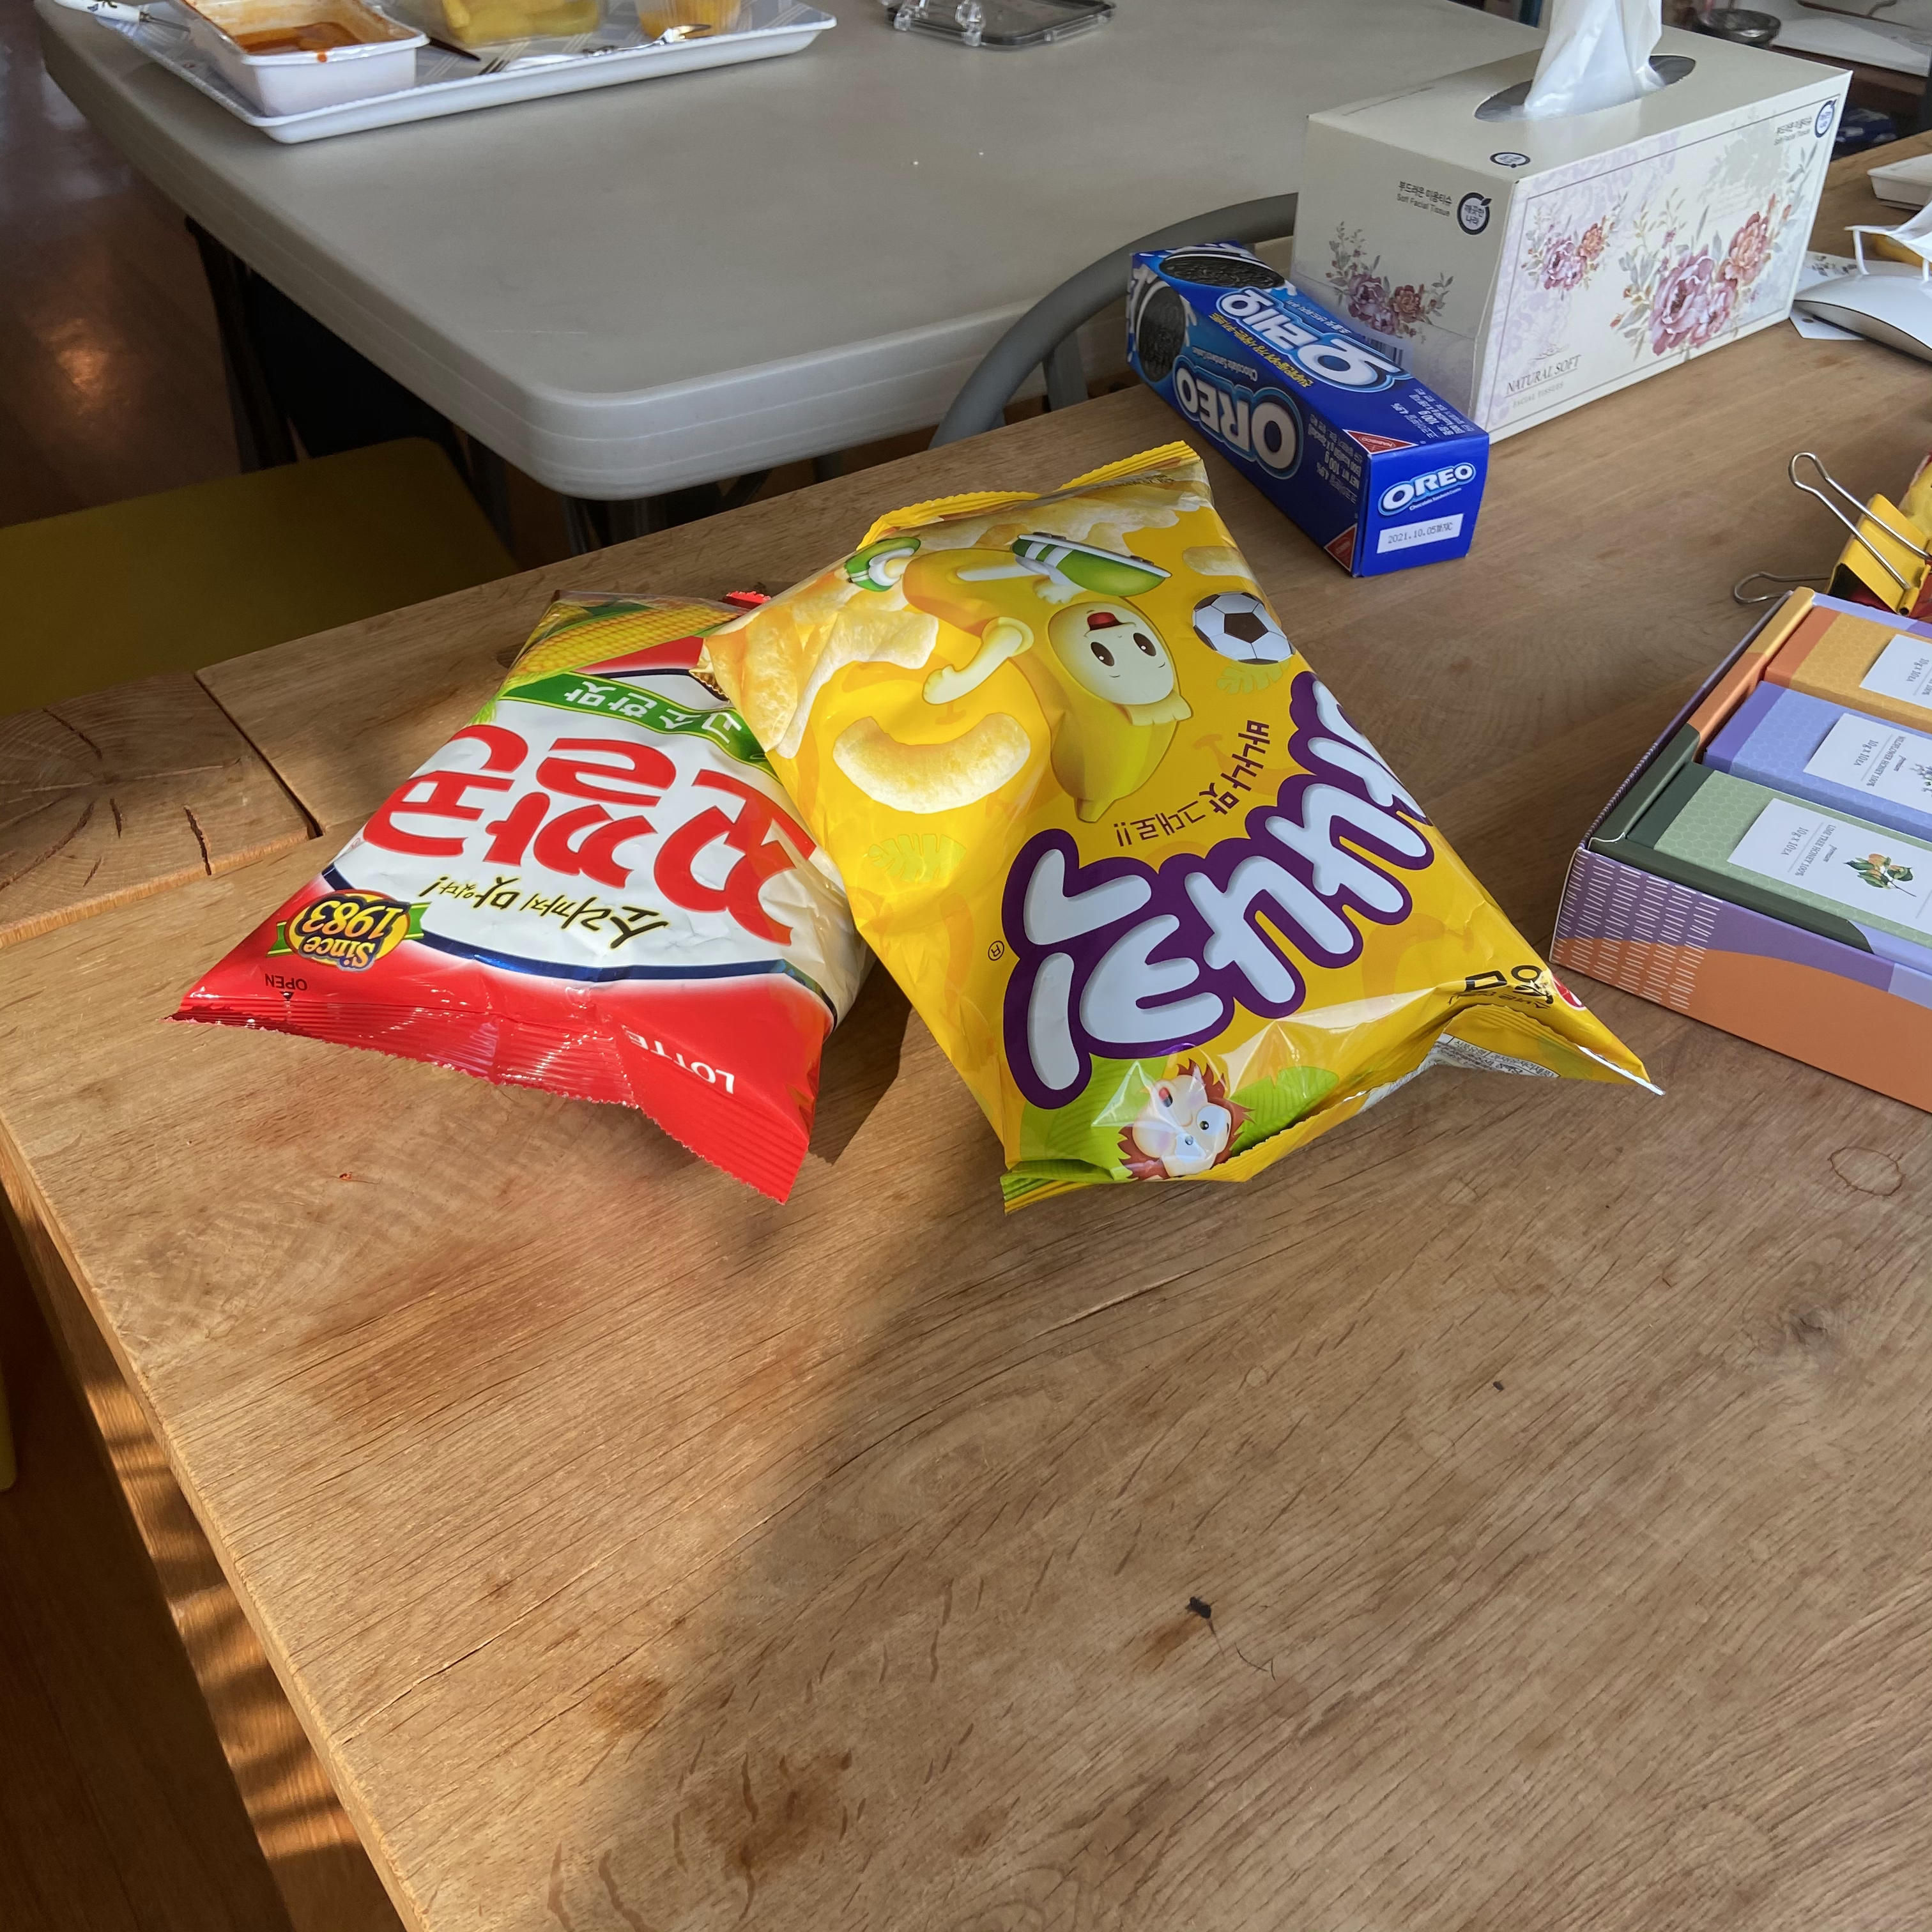banana: (679, 442, 1684, 1228)
ggoggalcon: (159, 573, 945, 1212)
oreo: (1108, 223, 1500, 589)
